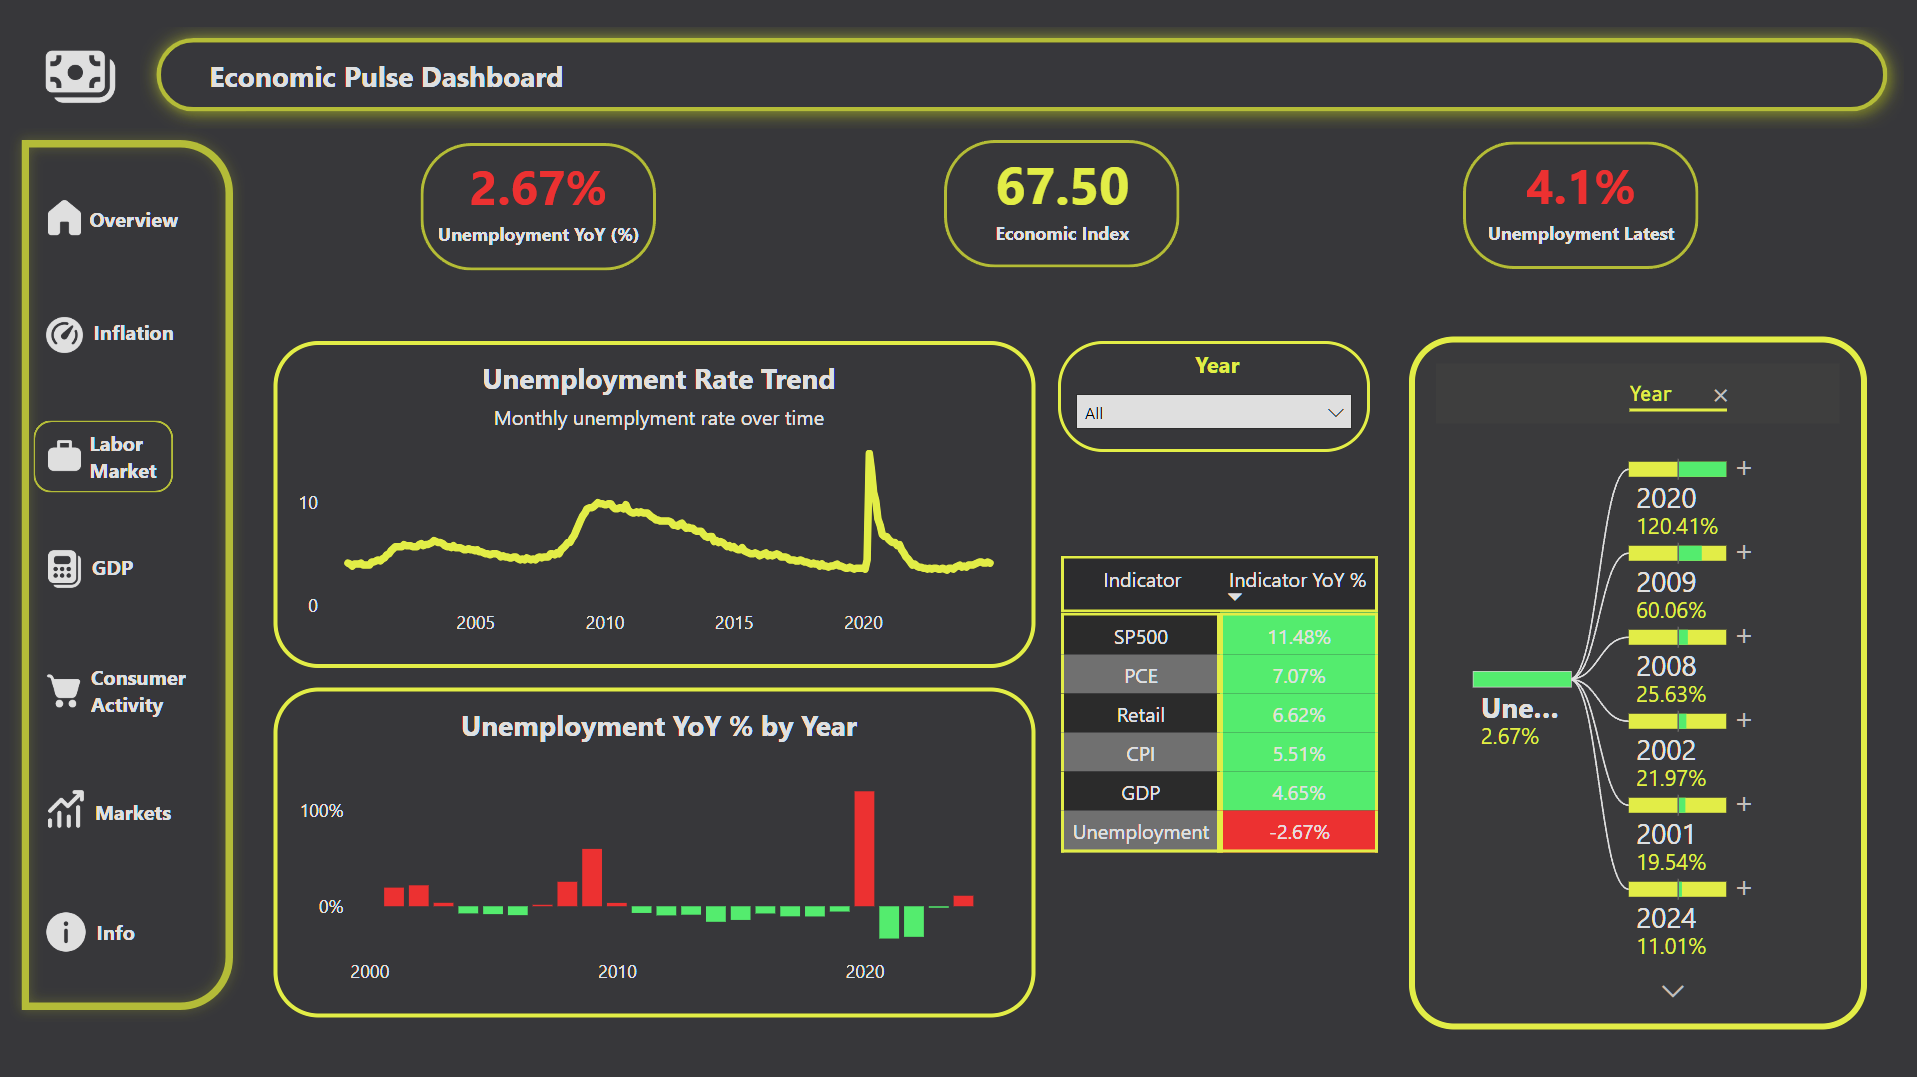

The dashboard page shown, as its layout file describes it:
{"tool":"powerbi","page":{"name":"Labor Market","canvas":[1280,720],"ordinal":2},"visuals":[{"type":"shape","title":"Economic Pulse Dashboard","box":[94.1,14.9,1176.2,70.8],"z":0},{"type":"group","id":"g1","title":"Group 1","box":[629.7,91.4,154.4,91.5],"z":0,"group":"g19"},{"type":"group","id":"g2","title":"Group 2","box":[976,92.7,156.7,90.5],"z":0,"group":"g5"},{"type":"group","id":"g3","title":"Group 2","box":[281.1,93,156.7,90.5],"z":0,"group":"g4"},{"type":"shape","box":[629.7,94,156.7,85.2],"z":0,"group":"g1"},{"type":"shape","box":[976,95.3,156.7,85.2],"z":0,"group":"g14"},{"type":"shape","box":[281.1,95.6,156.7,85.2],"z":0,"group":"g15"},{"type":"image","box":[29.2,195.4,29.6,58.1],"z":0,"group":"g7"},{"type":"image","box":[14.4,23.2,80,54.4],"z":1000},{"type":"card","fields":{"Values":["Measures_Scoring.Economic Index"]},"box":[632.4,91.4,151.3,90.5],"z":1000,"group":"g1"},{"type":"card","fields":{"Values":["Unemployment.Unemployment Latest"]},"box":[978.7,92.7,151.3,90.5],"z":1000,"group":"g14"},{"type":"group","id":"g4","title":"Group 15","box":[281.1,93,156.7,90.5],"z":1000,"group":"g19"},{"type":"card","fields":{"Values":["Measures_YoY.Unemployment YoY %"]},"box":[283.8,93,151.3,90.5],"z":1000,"group":"g15"},{"type":"textbox","box":[38.6,207.6,102.6,51.8],"z":1000,"group":"g7"},{"type":"shape","box":[6.6,85.8,157.2,595.8],"z":2000},{"type":"group","id":"g5","title":"Group 15","box":[976,92.7,157.2,90.5],"z":2000,"group":"g19"},{"type":"shape","box":[17.4,201,104.4,47.4],"z":2000,"group":"g7"},{"type":"group","id":"g6","title":"Group 3","box":[23.4,116.7,112.1,79.1],"z":3000},{"type":"image","box":[29.2,116.7,29.6,58.1],"z":4000,"group":"g6"},{"type":"group","id":"g7","title":"Group 4","box":[17.4,195.4,123.8,64],"z":4000},{"type":"textbox","box":[56.5,436.7,76.2,69.6],"z":4000,"group":"g12"},{"type":"group","id":"g8","title":"Group 10","box":[14.4,351.2,104.4,69.6],"z":5000},{"type":"image","box":[29.2,351.2,29.6,58.1],"z":5000,"group":"g9"},{"type":"image","box":[29.2,276.1,29.6,58.1],"z":6000,"group":"g17"},{"type":"group","id":"g9","title":"Group 6","box":[29.2,351.2,80.9,69.6],"z":6000,"group":"g8"},{"type":"group","id":"g10","title":"Group 11","box":[25.2,432,107.5,74.4],"z":6000},{"type":"image","box":[29.2,432,29.6,58.1],"z":6000,"group":"g12"},{"type":"textbox","box":[44.2,131.8,91.3,64],"z":7000,"group":"g6"},{"type":"group","id":"g11","title":"Group 12","box":[22.2,511.4,125.6,76.2],"z":7000},{"type":"image","box":[29.2,511.4,29.6,58.1],"z":7000,"group":"g16"},{"type":"textbox","box":[41.4,364.4,68.7,56.5],"z":8000,"group":"g9"},{"type":"group","id":"g12","title":"Group 7","box":[29.2,432,103.5,74.4],"z":8000,"group":"g10"},{"type":"group","id":"g13","title":"Group 13","box":[14.4,593.2,111.7,59.3],"z":8000},{"type":"group","id":"g14","title":"Group 1","box":[976,92.7,156.7,90.5],"z":8001,"group":"g2"},{"type":"group","id":"g15","title":"Group 1","box":[281.1,93,156.7,90.5],"z":8001,"group":"g3"},{"type":"textbox","box":[54.6,280.8,90.4,89.4],"z":9000},{"type":"group","id":"g16","title":"Group 8","box":[29.2,511.4,118.6,76.2],"z":9000,"group":"g11"},{"type":"image","box":[29.2,593.2,30.6,58.1],"z":9000,"group":"g18"},{"type":"group","id":"g17","title":"Group 5","box":[23.4,276.1,93,58.1],"z":10000},{"type":"textbox","box":[30.1,527.4,117.6,60.2],"z":10000,"group":"g16"},{"type":"group","id":"g18","title":"Group 9","box":[29.2,593.2,96.9,59.3],"z":10000,"group":"g13"},{"type":"shape","box":[23.4,124.2,104.4,47.4],"z":10001,"group":"g6"},{"type":"group","id":"g19","title":"Group 14","box":[281.1,91.4,851.9,92.4],"z":11000},{"type":"shape","box":[23.4,281.4,93,47.4],"z":11000,"group":"g17"},{"type":"textbox","box":[29.2,607.3,96.9,45.2],"z":11000,"group":"g18"},{"type":"lineChart","title":"Unemployment Rate  Trend","fields":{"Category":["Calendar.Date"],"Y":["Sum(Unemployment.Unemployment_Value)"]},"box":[182.9,227.7,507.9,218.2],"z":12000},{"type":"shape","box":[14.4,357,104.4,47.4],"z":12002,"group":"g8"},{"type":"shape","box":[25.2,437.4,104.4,47.4],"z":12004,"group":"g10"},{"type":"shape","box":[22.2,516.6,104.4,47.4],"z":12006,"group":"g11"},{"type":"shape","box":[14.4,598.8,104.4,47.4],"z":12008,"group":"g13"},{"type":"pivotTable","fields":{"Rows":["Indicators.Indicator"],"Values":["Measures_YoY.Indicator YoY %"]},"box":[708,370.7,219.2,237.3],"z":13000},{"type":"clusteredColumnChart","title":"Unemployment YoY % by Year","fields":{"Category":["Calendar.Year"],"Y":["Measures_YoY.Unemployment YoY %"]},"box":[182.9,459.3,507.9,220.1],"z":14000},{"type":"decompositionTreeVisual","fields":{"ExplainBy":["Calendar.Year","Labor_Market_Merged.Retail_YoY","Labor_Market_Merged.PCE_YoY","Labor_Market_Merged.CPI_YoY","Labor_Market_Merged.SP500_YoY","Labor_Market_Merged.GDP_YoY"],"Analyze":["Measures_YoY.Unemployment YoY %"]},"box":[940.5,224.9,304.9,462.1],"z":15000},{"type":"slicer","title":"Year","fields":{"Values":["Calendar.Year"]},"box":[706.1,227.7,207.7,74.3],"z":16000}]}

Visuals, with their boxes in screenshot pixels (x1, y1, x2, y2), scaled from the page's 1280x720 canvas onto the 1917x1077 screenshot:
"Economic Pulse Dashboard" shape: bbox(141, 22, 1902, 128)
"Group 1" group: bbox(943, 137, 1174, 274)
"Group 2" group: bbox(1462, 139, 1696, 274)
"Group 2" group: bbox(421, 139, 656, 274)
shape: bbox(943, 141, 1178, 268)
shape: bbox(1462, 143, 1696, 270)
shape: bbox(421, 143, 656, 270)
image: bbox(44, 292, 88, 379)
image: bbox(22, 35, 141, 116)
card - Measures_Scoring.Economic Index: bbox(947, 137, 1174, 272)
card - Unemployment.Unemployment Latest: bbox(1466, 139, 1692, 274)
"Group 15" group: bbox(421, 139, 656, 274)
card - Measures_YoY.Unemployment YoY %: bbox(425, 139, 652, 274)
textbox: bbox(58, 311, 211, 388)
shape: bbox(10, 128, 245, 1020)
"Group 15" group: bbox(1462, 139, 1697, 274)
shape: bbox(26, 301, 182, 372)
"Group 3" group: bbox(35, 175, 203, 293)
image: bbox(44, 175, 88, 261)
"Group 4" group: bbox(26, 292, 211, 388)
textbox: bbox(85, 653, 199, 757)
"Group 10" group: bbox(22, 525, 178, 629)
image: bbox(44, 525, 88, 612)
image: bbox(44, 413, 88, 500)
"Group 6" group: bbox(44, 525, 165, 629)
"Group 11" group: bbox(38, 646, 199, 757)
image: bbox(44, 646, 88, 733)
textbox: bbox(66, 197, 203, 293)
"Group 12" group: bbox(33, 765, 221, 879)
image: bbox(44, 765, 88, 852)
textbox: bbox(62, 545, 165, 630)
"Group 7" group: bbox(44, 646, 199, 757)
"Group 13" group: bbox(22, 887, 189, 976)
"Group 1" group: bbox(1462, 139, 1696, 274)
"Group 1" group: bbox(421, 139, 656, 274)
textbox: bbox(82, 420, 217, 554)
"Group 8" group: bbox(44, 765, 221, 879)
image: bbox(44, 887, 90, 974)
"Group 5" group: bbox(35, 413, 174, 500)
textbox: bbox(45, 789, 221, 879)
"Group 9" group: bbox(44, 887, 189, 976)
shape: bbox(35, 186, 191, 257)
"Group 14" group: bbox(421, 137, 1697, 275)
shape: bbox(35, 421, 174, 492)
textbox: bbox(44, 908, 189, 976)
"Unemployment Rate  Trend" lineChart: bbox(274, 341, 1035, 667)
shape: bbox(22, 534, 178, 605)
shape: bbox(38, 654, 194, 725)
shape: bbox(33, 773, 190, 844)
shape: bbox(22, 896, 178, 967)
pivotTable - Indicators.Indicator x Measures_YoY.Indicator YoY %: bbox(1060, 555, 1389, 909)
"Unemployment YoY % by Year" clusteredColumnChart: bbox(274, 687, 1035, 1016)
decompositionTreeVisual - Calendar.Year x Labor_Market_Merged.Retail_YoY: bbox(1409, 336, 1865, 1028)
"Year" slicer: bbox(1057, 341, 1369, 452)
